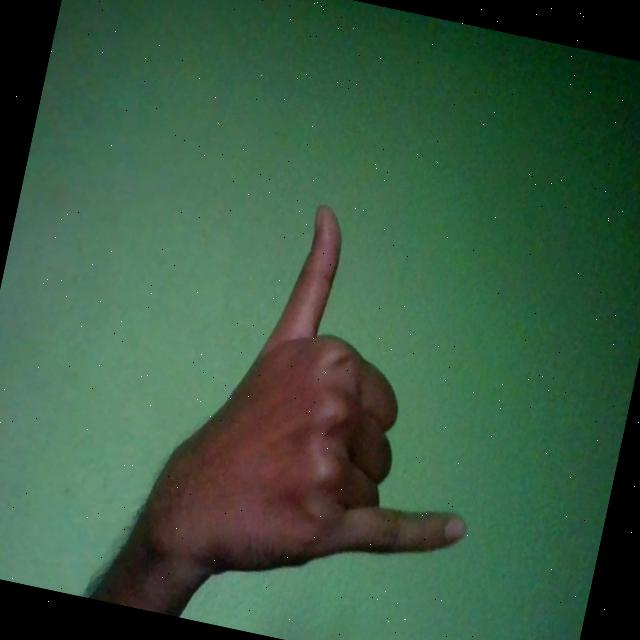Call Me: (128, 182, 526, 624)
